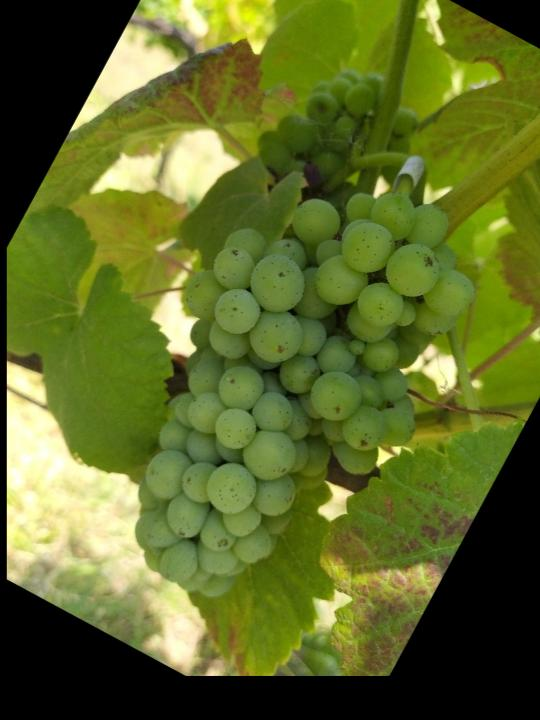grape: (70, 125, 520, 655)
